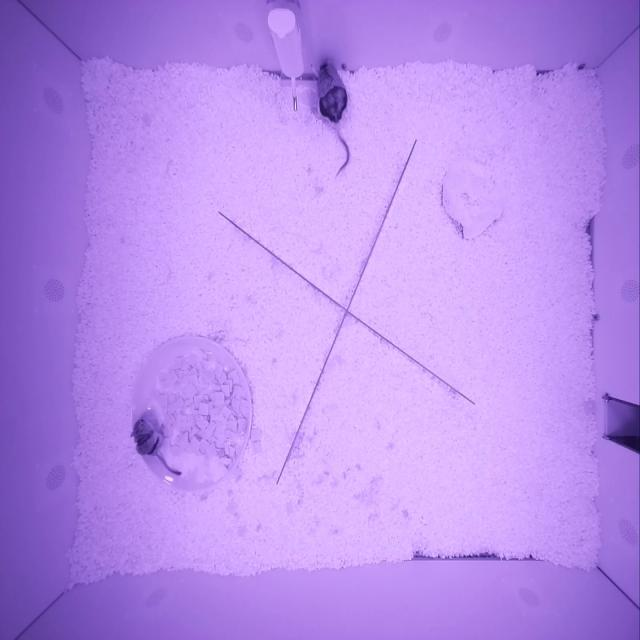adult_back: (316, 58, 348, 129)
pup_h_stripe: (130, 418, 165, 456)
